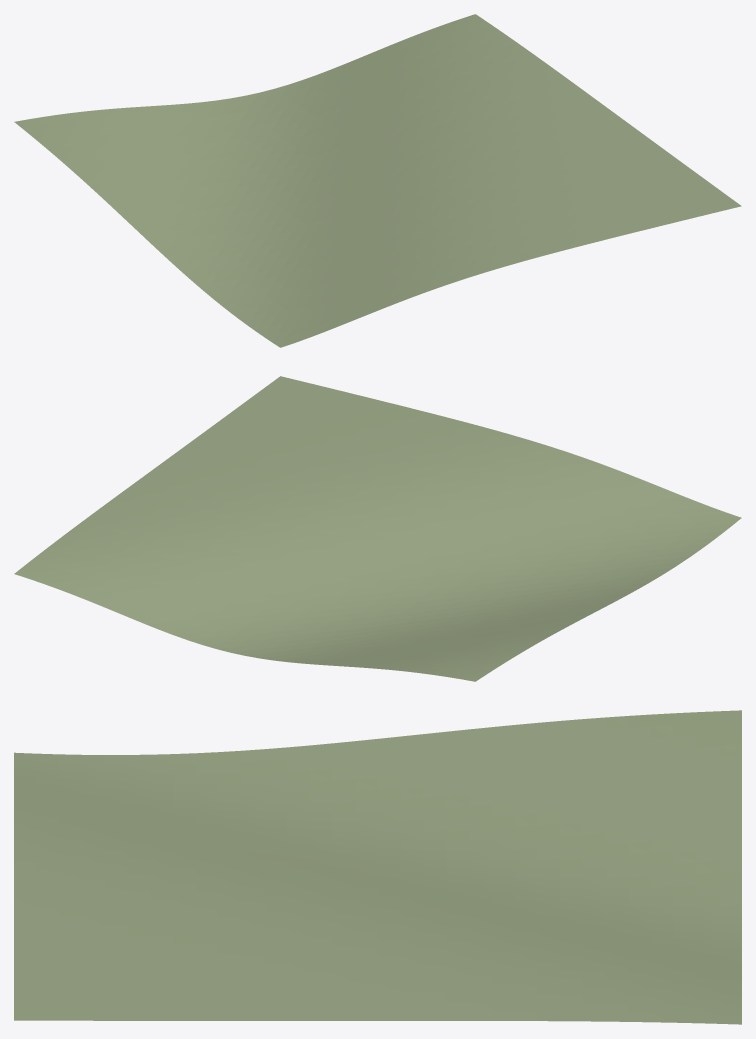
Rendered from desert-13-29.glb.
3 renders of one model, top to bottom at view 1: azimuth 30°, elevation 25°; view 2: azimuth 150°, elevation 25°; view 3: azimuth 270°, elevation 25°, orthographic. The views are drawn at different scales.
Visible parts, largest first — view 1: desert-13-29; view 2: desert-13-29; view 3: desert-13-29.
Boxes of the visible parts, <box> form: desert-13-29: <box>14,14,741,347</box>; desert-13-29: <box>14,376,741,681</box>; desert-13-29: <box>14,710,741,1024</box>.
Size of the model in its own units: 512 by 34.69 by 512.
